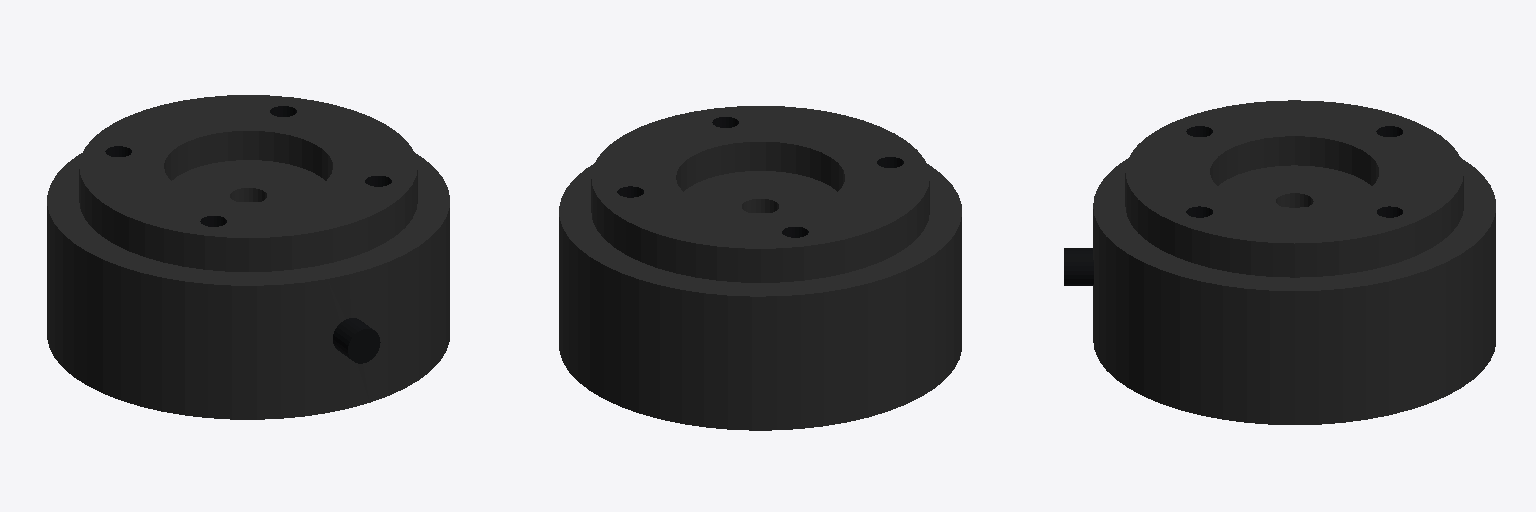
File: wrist3.obj
The picture shows the model from 3 angles: view 1: azimuth 30°, elevation 25°; view 2: azimuth 150°, elevation 25°; view 3: azimuth 270°, elevation 25°; orthographic projection.
Parts seen in each view (by area): view 1: Rohr_007_001.001, SWMaterial-1_004_002_001.001; view 2: Rohr_007_001.001, SWMaterial-1_004_002_001.001; view 3: Rohr_007_001.001, SWMaterial-1_004_002_001.001.
Part boxes in pixels (left/top/right/bottom): Rohr_007_001.001: left=47, top=95, right=449, bottom=419; SWMaterial-1_004_002_001.001: left=105, top=106, right=391, bottom=363; Rohr_007_001.001: left=559, top=106, right=961, bottom=430; SWMaterial-1_004_002_001.001: left=617, top=117, right=903, bottom=237; Rohr_007_001.001: left=1093, top=100, right=1495, bottom=424; SWMaterial-1_004_002_001.001: left=1064, top=126, right=1402, bottom=285.
Size of the model in its own units: 0.075 by 0.0345 by 0.0805.